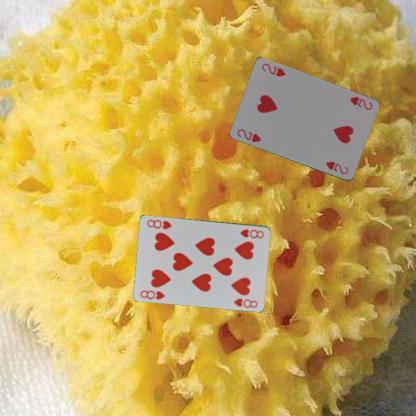2h: (347, 94, 374, 112), (235, 126, 262, 144)
8h: (138, 287, 166, 301), (238, 226, 265, 240)
